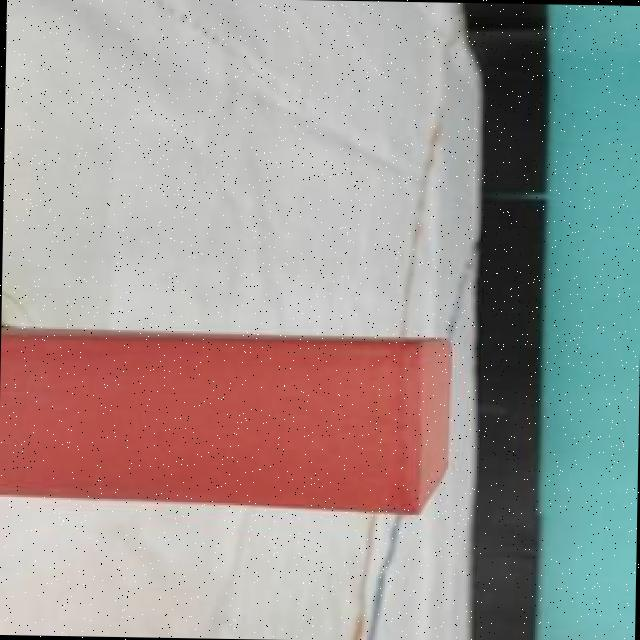redbox: (0, 324, 450, 499)
